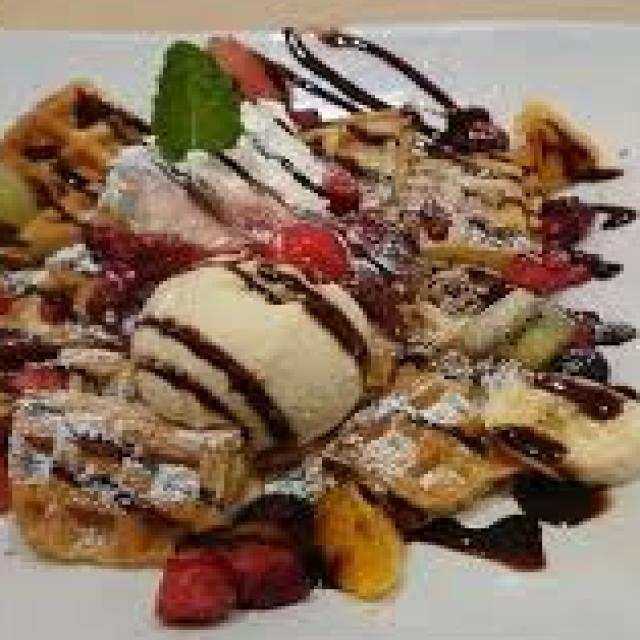inorganic: (4, 34, 631, 633)
